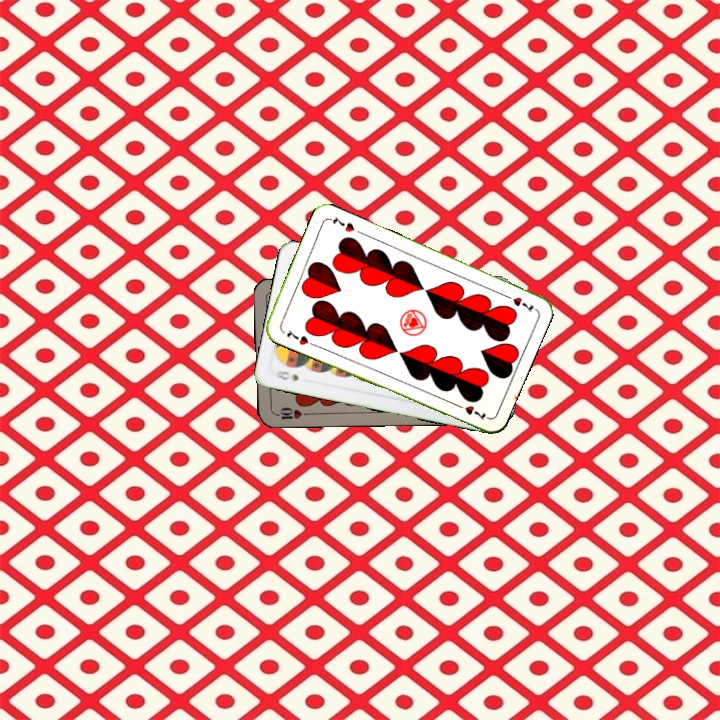H10: (270, 403, 311, 422)
H7: (499, 290, 536, 315), (282, 326, 317, 349)
S8: (270, 367, 301, 384)
